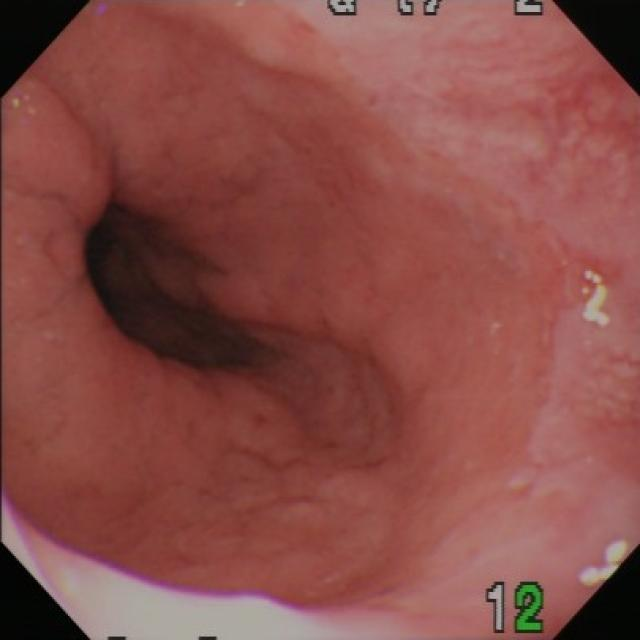D: (453, 56, 640, 191), (563, 337, 640, 483)
E: (72, 185, 289, 394)
S: (488, 583, 549, 638), (327, 3, 548, 18)
U: (3, 497, 409, 640), (578, 538, 633, 588), (575, 264, 616, 331)
